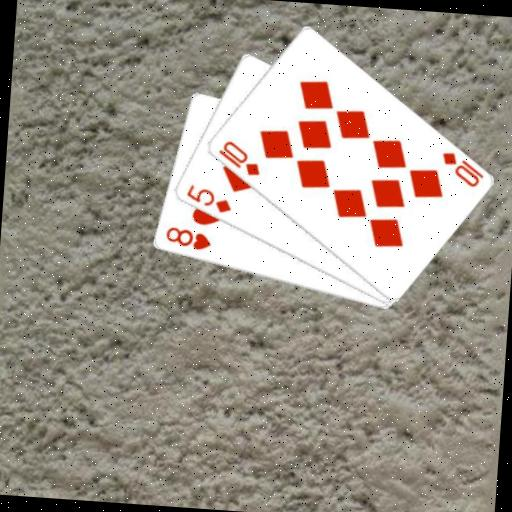10D: (214, 137, 264, 178), (437, 148, 487, 189)
5D: (181, 181, 234, 215)
8H: (162, 223, 214, 253)
